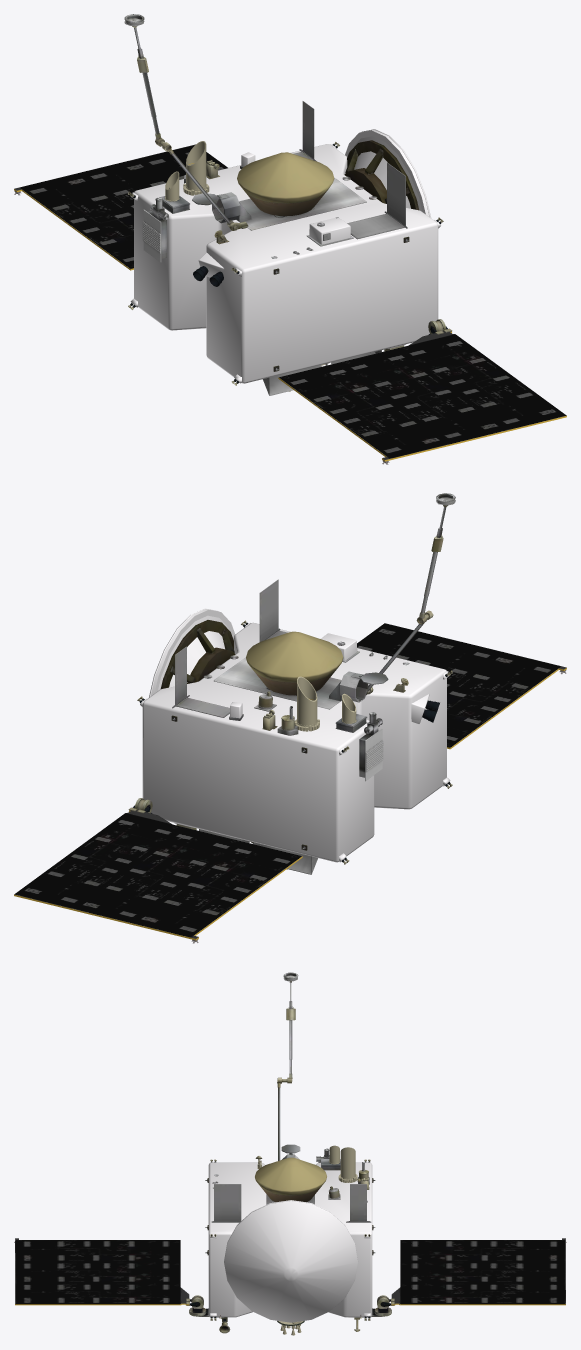
The model's file is osiris-rex.glb.
The picture shows the model from 3 angles, top to bottom: view 1: azimuth 30°, elevation 25°; view 2: azimuth 150°, elevation 25°; view 3: azimuth 270°, elevation 25°; orthographic projection. The views are drawn at different scales.
Visible parts, largest first — view 1: Bus_plate_mounting, BUS, Bronze_Dome, HGA; view 2: Bus_plate_mounting, BUS, Bronze_Dome, HGA; view 3: Bus_plate_mounting, HGA, BUS, Bronze_Dome.
Boxes of the visible parts, <box> form: Bus_plate_mounting: <box>14,14,566,459</box>; BUS: <box>130,144,440,383</box>; Bronze_Dome: <box>14,141,566,464</box>; HGA: <box>345,129,431,217</box>; Bus_plate_mounting: <box>14,493,566,938</box>; BUS: <box>140,622,450,862</box>; Bronze_Dome: <box>14,668,566,943</box>; HGA: <box>149,608,235,697</box>; Bus_plate_mounting: <box>15,972,565,1333</box>; HGA: <box>224,1200,357,1322</box>; BUS: <box>208,1162,372,1317</box>; Bronze_Dome: <box>14,1145,566,1335</box>.
Size of what is drawn, in the model's own units: 4.91 by 6.34 by 10.57.
Materials: 6 (6 with a texture image).
